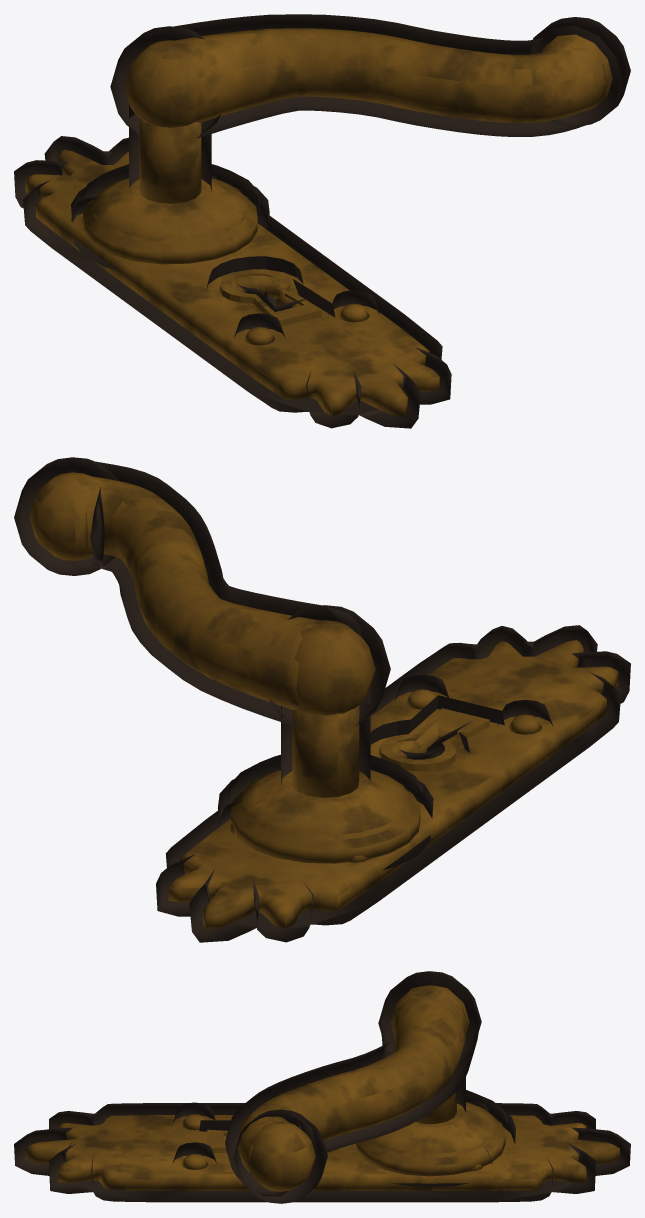
The model's file is tuerschloss_zeiger.glb.
3 views of the same model, one above another, from view 1: azimuth 30°, elevation 25°; view 2: azimuth 150°, elevation 25°; view 3: azimuth 270°, elevation 25° (orthographic). The views are drawn at different scales.
Visible parts, largest first — view 1: Schloss, Klinke_Netz, Umriss_Schloss, Umriss_Klinke; view 2: Schloss, Klinke_Netz, Umriss_Schloss, Umriss_Klinke; view 3: Schloss, Klinke_Netz, Umriss_Schloss, Umriss_Klinke.
Part boxes in pixels (box(x1,y1,x2,y2)): Schloss: box(25, 118, 439, 416); Klinke_Netz: box(124, 28, 612, 127); Umriss_Schloss: box(14, 103, 451, 428); Umriss_Klinke: box(110, 14, 630, 138); Schloss: box(168, 640, 618, 930); Klinke_Netz: box(29, 472, 375, 715); Umriss_Schloss: box(156, 625, 630, 942); Umriss_Klinke: box(14, 457, 390, 727); Schloss: box(25, 1091, 619, 1190); Klinke_Netz: box(237, 985, 469, 1191); Umriss_Schloss: box(14, 1037, 630, 1202); Umriss_Klinke: box(225, 971, 481, 1203).
Bounding box in the file's own units: 0.1341 × 0.0637 × 0.1836.
Materials: 3 (1 with a texture image).
